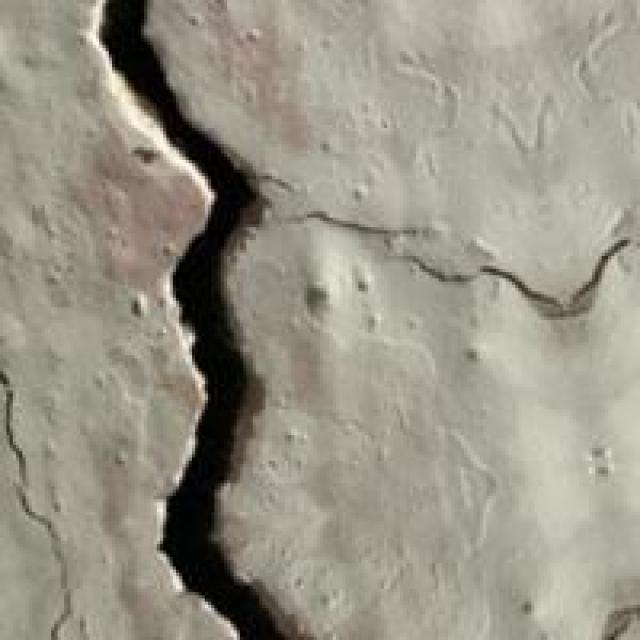crack: (58, 0, 400, 637)
